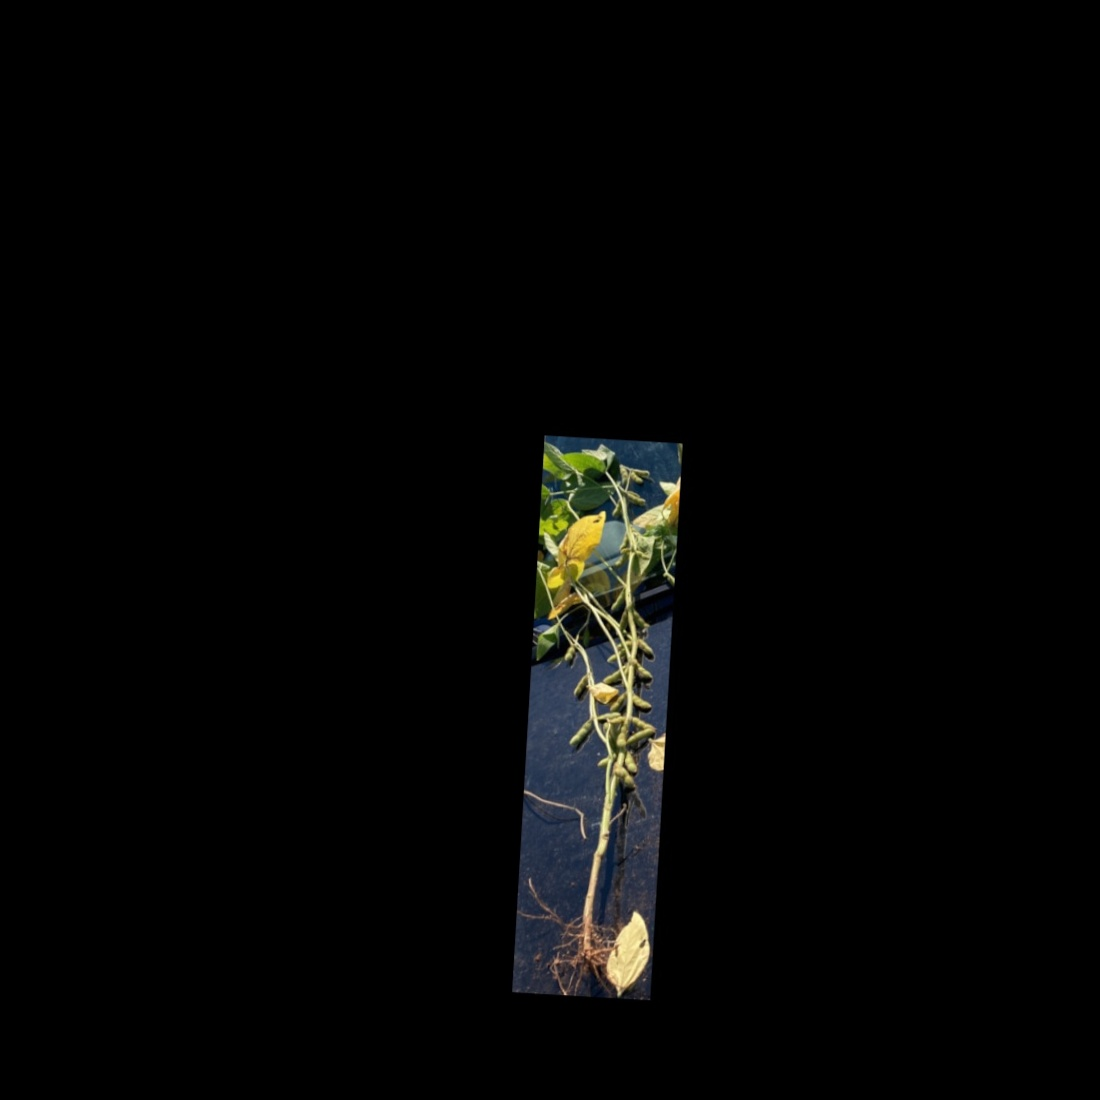pod: (565, 716, 595, 751), (622, 723, 657, 748), (628, 712, 659, 733), (629, 691, 654, 713), (571, 675, 591, 702), (621, 489, 648, 507), (623, 749, 638, 776), (562, 643, 577, 664), (609, 498, 623, 520), (615, 529, 628, 552), (617, 464, 629, 488), (627, 470, 645, 485)
soy: (516, 445, 680, 983)
